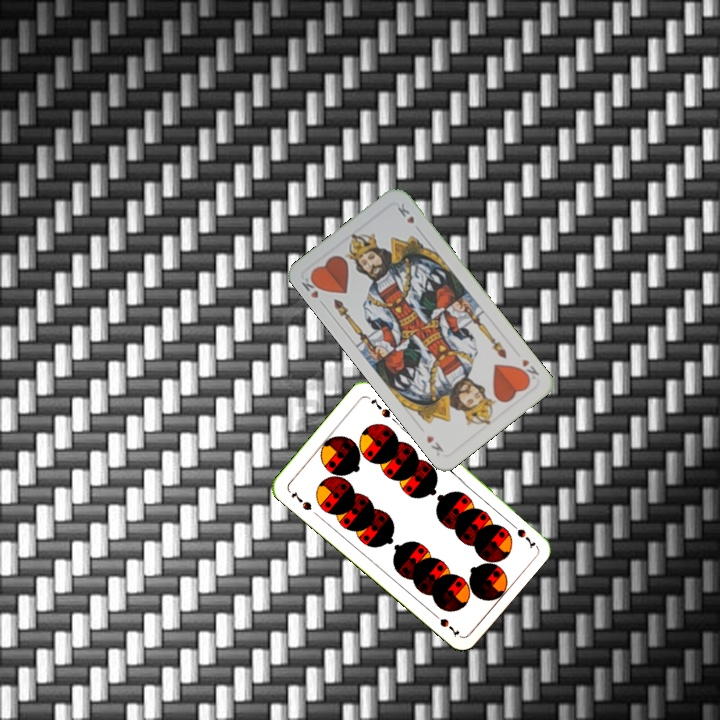HK: (298, 270, 328, 309), (515, 355, 542, 384)
S7: (505, 518, 538, 550), (287, 487, 314, 513)
